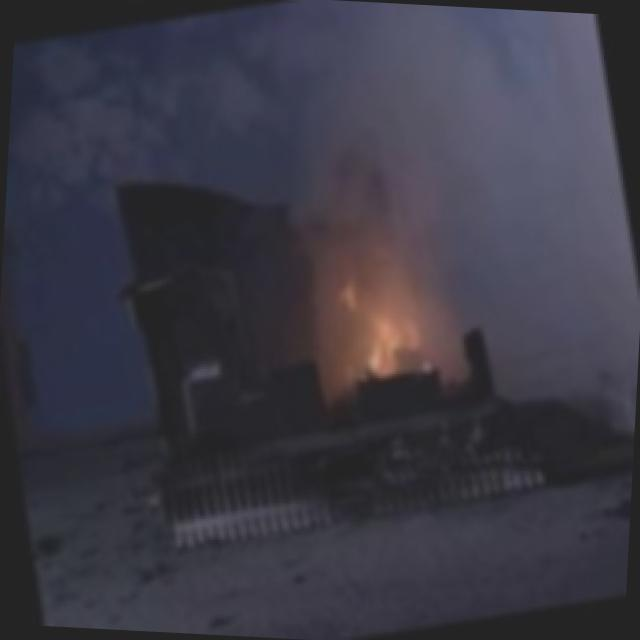fire: (296, 192, 478, 416)
smoke: (290, 0, 635, 275)
